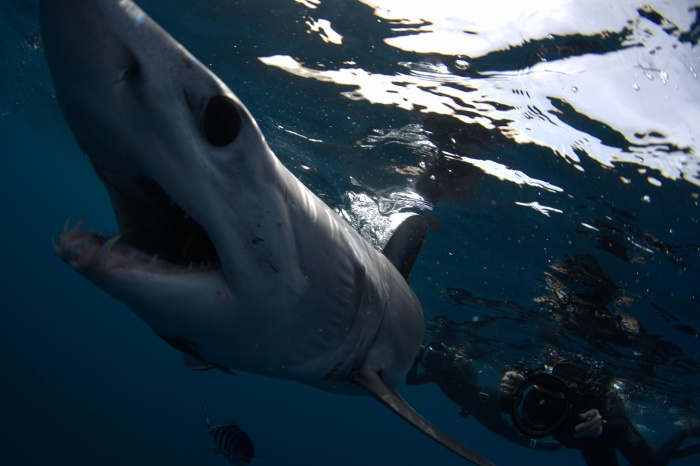Mako: (22, 1, 522, 466)
